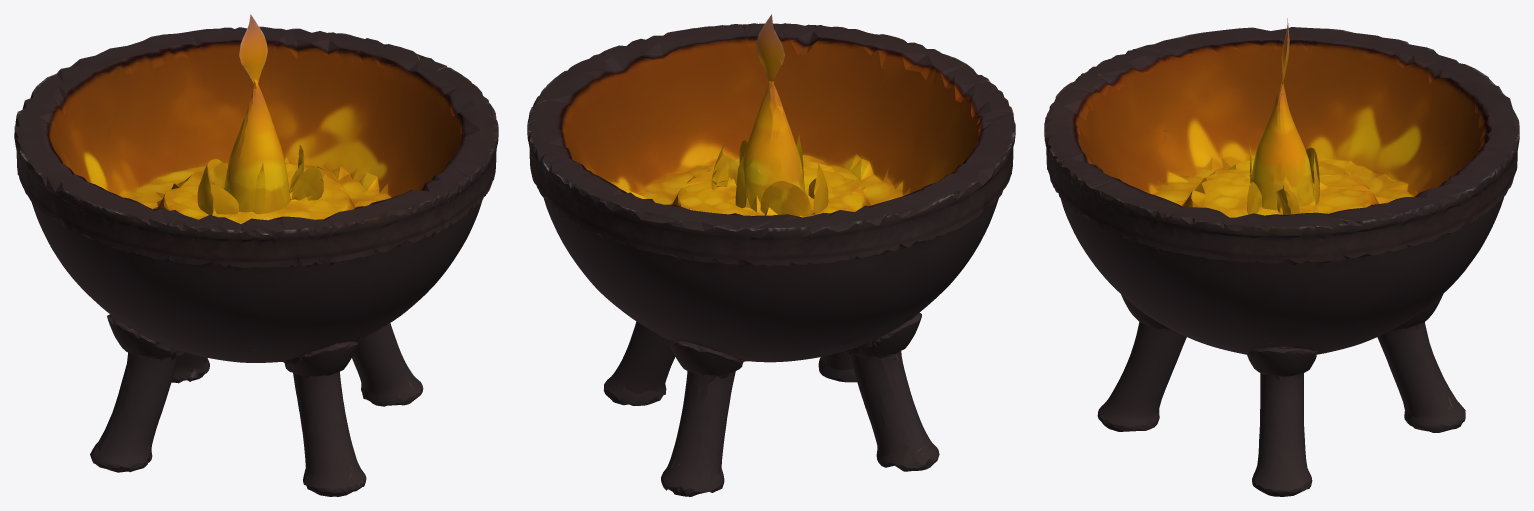
Rendered from rodin_Forge_Brazier_raw.glb.
3 renders of one model, left to right at view 1: azimuth 30°, elevation 25°; view 2: azimuth 150°, elevation 25°; view 3: azimuth 270°, elevation 25°, orthographic. The views are drawn at different scales.
Parts seen in each view (by area): view 1: model; view 2: model; view 3: model.
Boxes of the visible parts, left/top/right/bottom form: model: left=14, top=14, right=498, bottom=496; model: left=527, top=14, right=1015, bottom=496; model: left=1044, top=18, right=1519, bottom=496.
Bounding box in the file's own units: 1.9 × 1.78 × 1.9.
1 material, 1 textured.
